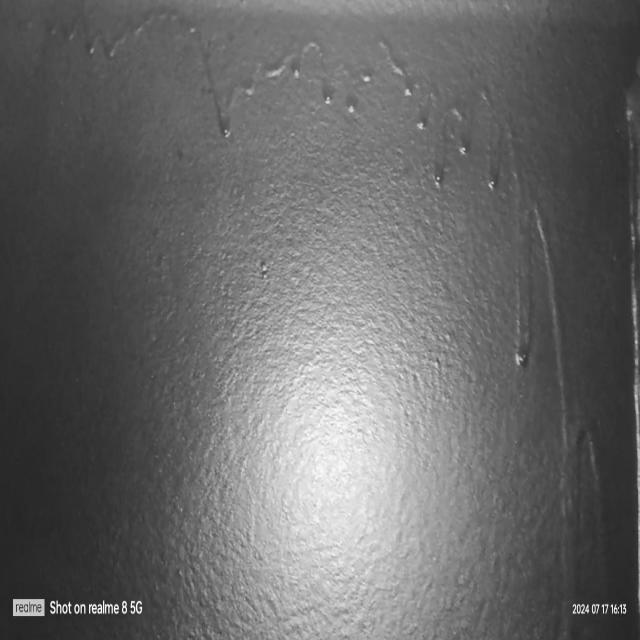paint drips: (0, 0, 508, 198), (508, 128, 622, 640)
